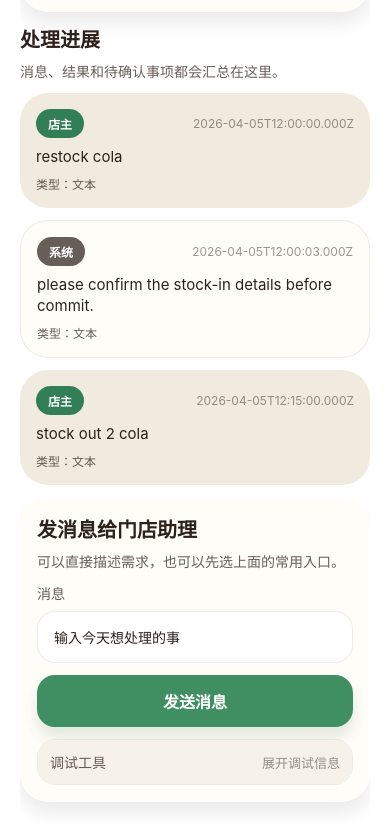
Test: ChatScreen › sends a voice stock-in demo through upload request, completion, and final message post
(page scrolled)
Click the button labelled "调试工具 展开调试信息".
click(78, 762)  # box [38, 740, 352, 784]
(page scrolled)
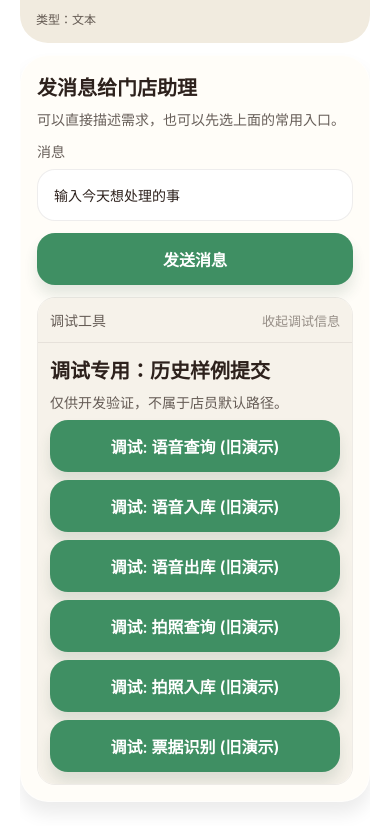
Check: the text "调试: 语音查询 (旧演示)" is shown, box [110, 434, 280, 458]
Click the button "调试: 语音入库 (旧演示)".
click(195, 506)  # box [50, 480, 340, 532]
(page scrolled)
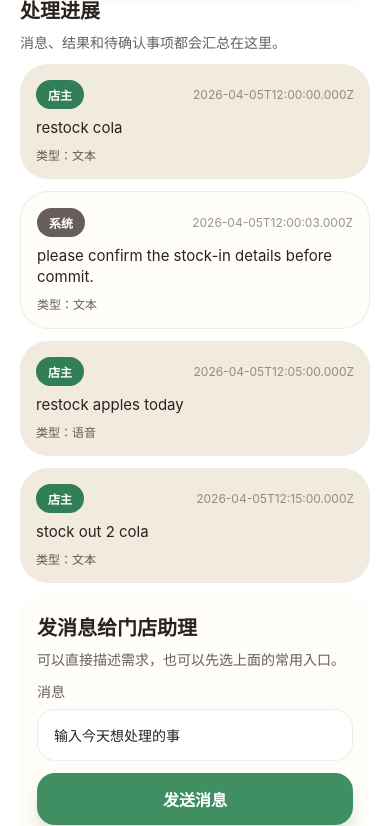
Check: the text "restock apples today" is shown, box [36, 395, 184, 414]
